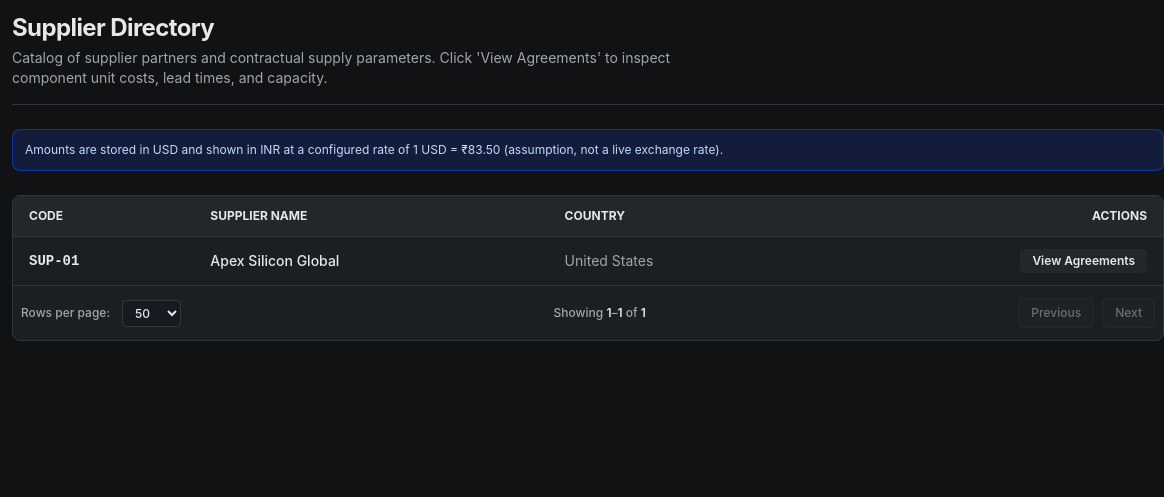
Test: SuppliersPage › displays INR notice, changes header to Unit Cost (INR), and formats offer unit costs in ₹ without $ when display_currency is INR
Expected: the text with test id "currency-notice" shows "Amounts are stored in USD and shown in INR at a configured rate of 1 USD = ₹83.50", 12,129 -> 1163,171
Step 1. Click the button with test id "toggle-supplier-1" → (1084, 261), box 1020,249 -> 1147,273
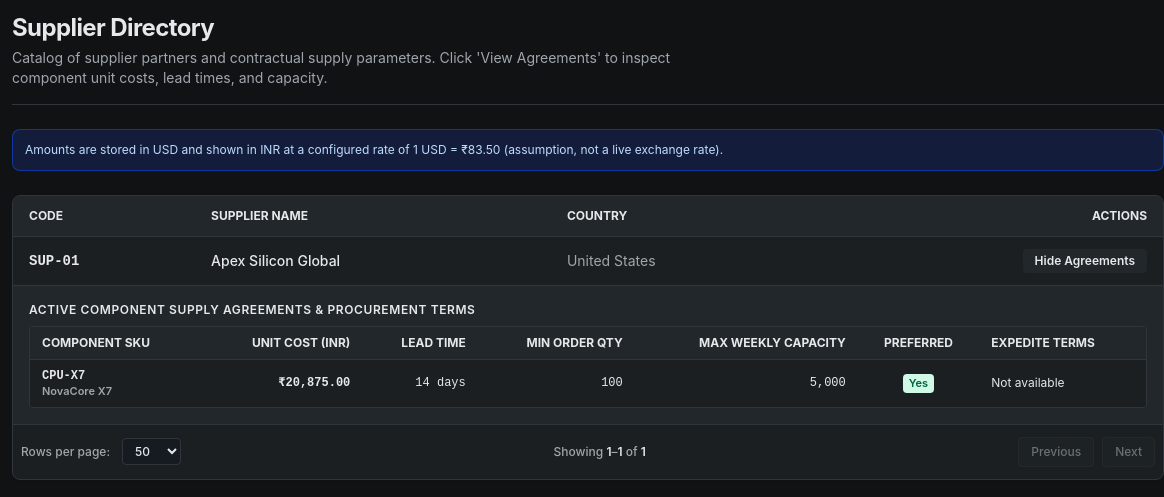
Now the element with test id "offers-table-1" is shown, box 29,302 -> 1147,408
Now the column heading "Unit Cost (INR)" is shown, box 202,327 -> 362,360
Now the text "₹20,875.00" is shown, box 202,360 -> 362,407
